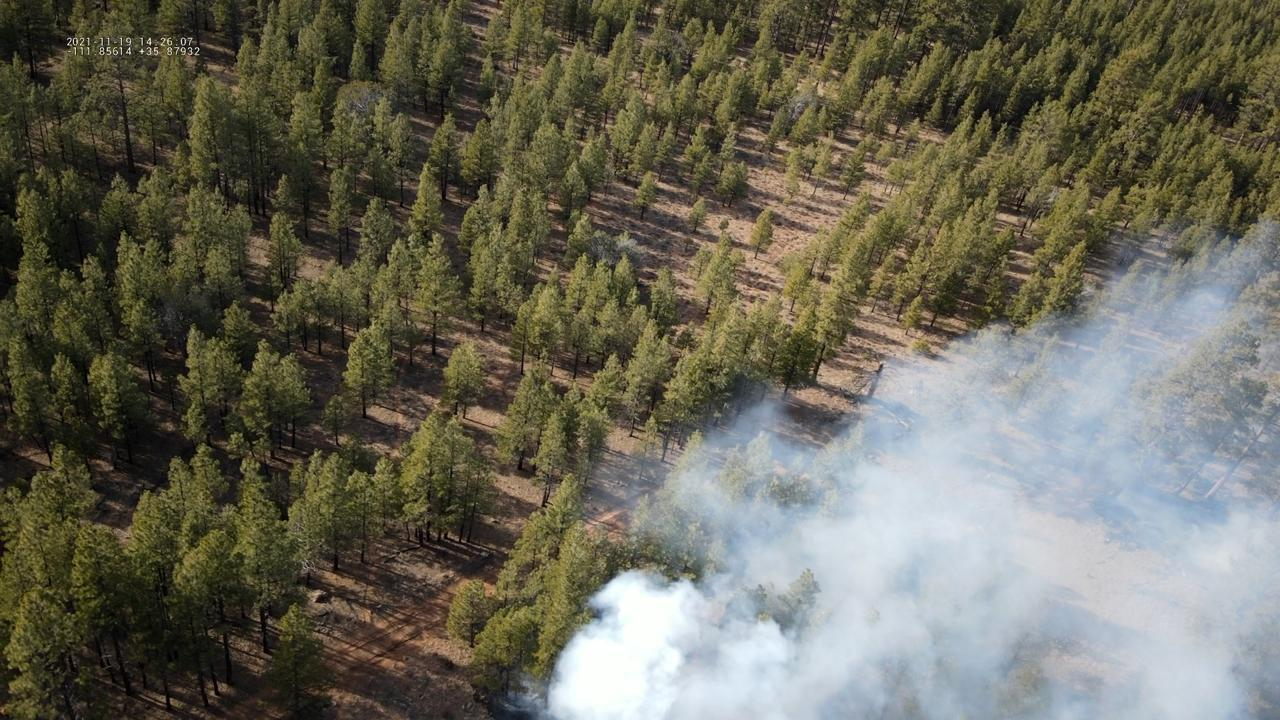smoke: (498, 214, 1280, 720)
